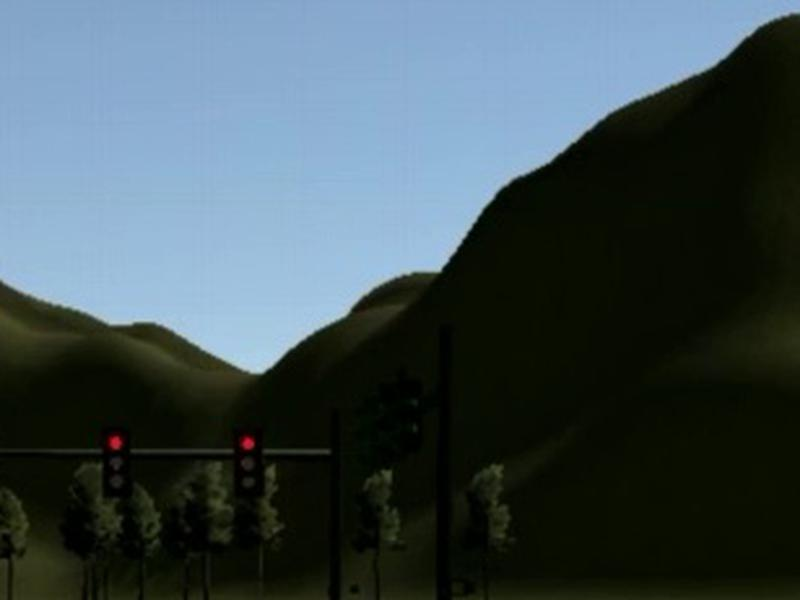Red: (101, 429, 133, 498), (236, 429, 265, 497)
